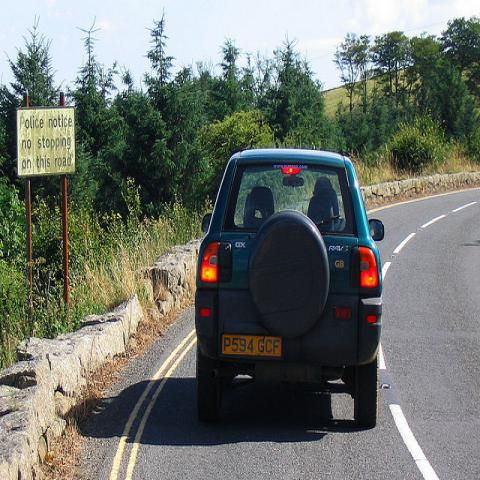car: (199, 151, 382, 426)
